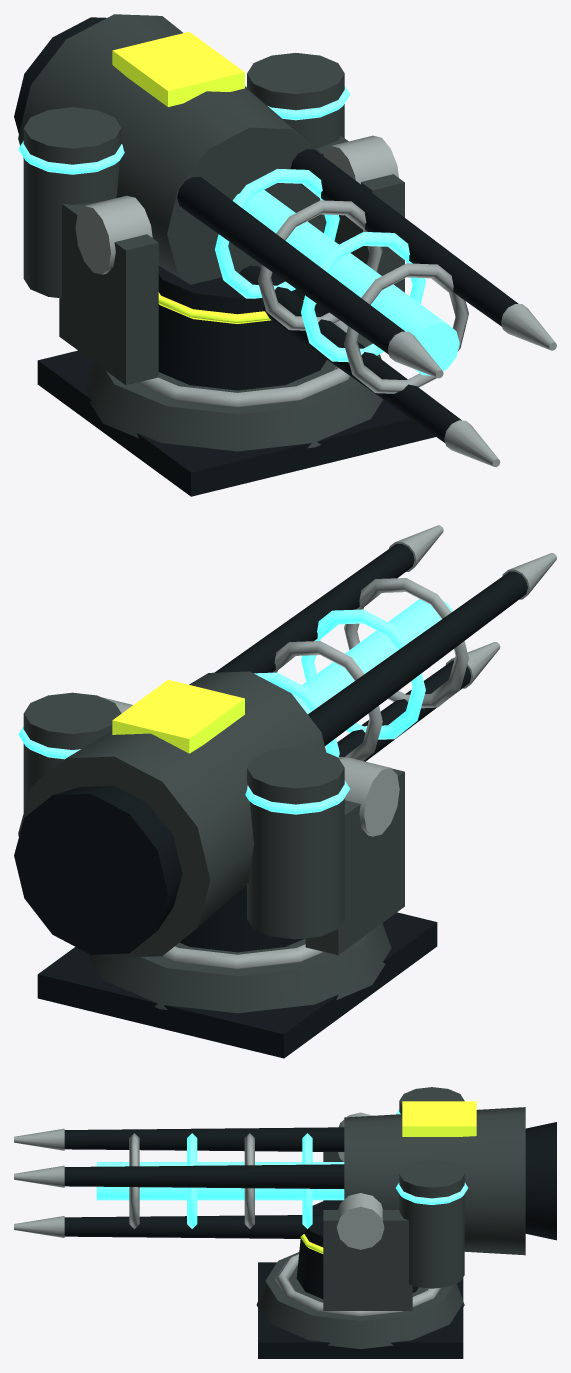
Rendered from pulse-projector-lod2.glb.
3 views of the same model, one above another, from view 1: azimuth 30°, elevation 25°; view 2: azimuth 150°, elevation 25°; view 3: azimuth 270°, elevation 25° (orthographic). The views are drawn at different scales.
Parts seen in each view (by area): view 1: receiver__Cerakote_graphite_armor, focus-prongs__Recessed_carbon_mechanism, capacitors__Cerakote_graphite_armor, cradle__Cerakote_graphite_armor, mount__Cerakote_graphite_armor, mount__Recessed_carbon_mechanism, yaw-drive__Recessed_carbon_mechanism, core__Ionized_cyan_core, induction-rings__Machined_titanium, identification__Velocity_chartreuse_identification, trunnion__Machined_titanium, induction-rings__Ionized_cyan_core (+5 smaller); view 2: receiver__Cerakote_graphite_armor, capacitors__Cerakote_graphite_armor, receiver__Recessed_carbon_mechanism, focus-prongs__Recessed_carbon_mechanism, mount__Recessed_carbon_mechanism, mount__Cerakote_graphite_armor, cradle__Cerakote_graphite_armor, identification__Velocity_chartreuse_identification, induction-rings__Machined_titanium, induction-rings__Ionized_cyan_core, core__Ionized_cyan_core, trunnion__Machined_titanium (+4 smaller); view 3: focus-prongs__Recessed_carbon_mechanism, receiver__Cerakote_graphite_armor, capacitors__Cerakote_graphite_armor, mount__Cerakote_graphite_armor, cradle__Cerakote_graphite_armor, mount__Recessed_carbon_mechanism, core__Ionized_cyan_core, receiver__Recessed_carbon_mechanism, identification__Velocity_chartreuse_identification, trunnion__Machined_titanium, focus-prongs__Machined_titanium, yaw-drive__Recessed_carbon_mechanism (+4 smaller).
Part boxes in pixels (x1=…): receiver__Cerakote_graphite_armor: x1=18, y1=14, x2=325, y2=284; focus-prongs__Recessed_carbon_mechanism: x1=177, y1=149, x2=518, y2=443; capacitors__Cerakote_graphite_armor: x1=23, y1=53, x2=344, y2=298; cradle__Cerakote_graphite_armor: x1=59, y1=136, x2=404, y2=385; mount__Cerakote_graphite_armor: x1=83, y1=334, x2=383, y2=451; mount__Recessed_carbon_mechanism: x1=37, y1=350, x2=435, y2=496; yaw-drive__Recessed_carbon_mechanism: x1=158, y1=265, x2=328, y2=390; core__Ionized_cyan_core: x1=232, y1=190, x2=459, y2=375; induction-rings__Machined_titanium: x1=258, y1=200, x2=468, y2=393; identification__Velocity_chartreuse_identification: x1=112, y1=31, x2=244, y2=106; trunnion__Machined_titanium: x1=75, y1=135, x2=398, y2=274; induction-rings__Ionized_cyan_core: x1=215, y1=169, x2=425, y2=362; receiver__Cerakote_graphite_armor: x1=18, y1=671, x2=325, y2=957; capacitors__Cerakote_graphite_armor: x1=23, y1=692, x2=344, y2=939; receiver__Recessed_carbon_mechanism: x1=14, y1=785, x2=182, y2=954; focus-prongs__Recessed_carbon_mechanism: x1=215, y1=544, x2=527, y2=761; mount__Recessed_carbon_mechanism: x1=37, y1=912, x2=437, y2=1058; mount__Cerakote_graphite_armor: x1=86, y1=923, x2=391, y2=1013; cradle__Cerakote_graphite_armor: x1=305, y1=768, x2=404, y2=955; identification__Velocity_chartreuse_identification: x1=112, y1=679, x2=244, y2=753; induction-rings__Machined_titanium: x1=273, y1=578, x2=468, y2=760; induction-rings__Ionized_cyan_core: x1=254, y1=609, x2=425, y2=757; core__Ionized_cyan_core: x1=293, y1=599, x2=453, y2=714; trunnion__Machined_titanium: x1=102, y1=697, x2=399, y2=836; focus-prongs__Recessed_carbon_mechanism: x1=64, y1=1127, x2=344, y2=1238; receiver__Cerakote_graphite_armor: x1=344, y1=1107, x2=525, y2=1255; capacitors__Cerakote_graphite_armor: x1=399, y1=1087, x2=464, y2=1288; mount__Cerakote_graphite_armor: x1=256, y1=1252, x2=464, y2=1349; cradle__Cerakote_graphite_armor: x1=323, y1=1152, x2=412, y2=1310; mount__Recessed_carbon_mechanism: x1=258, y1=1262, x2=463, y2=1358; core__Ionized_cyan_core: x1=96, y1=1162, x2=344, y2=1200; receiver__Recessed_carbon_mechanism: x1=525, y1=1122, x2=556, y2=1240; identification__Velocity_chartreuse_identification: x1=402, y1=1101, x2=476, y2=1136; trunnion__Machined_titanium: x1=336, y1=1112, x2=384, y2=1249; focus-prongs__Machined_titanium: x1=14, y1=1128, x2=64, y2=1237; yaw-drive__Recessed_carbon_mechanism: x1=296, y1=1200, x2=418, y2=1298.
Bounding box in the file's own units: 1.65 × 1.52 × 3.65.
